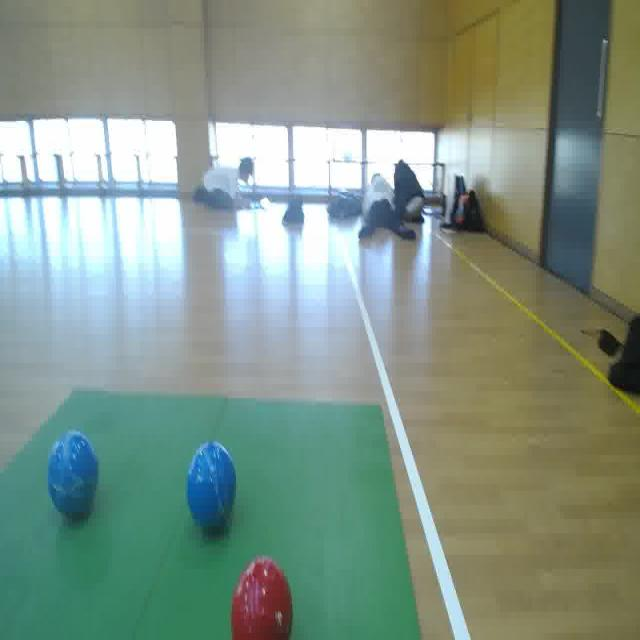blue_ball: (45, 421, 98, 534), (186, 434, 238, 534)
red_ball: (228, 556, 293, 640)
